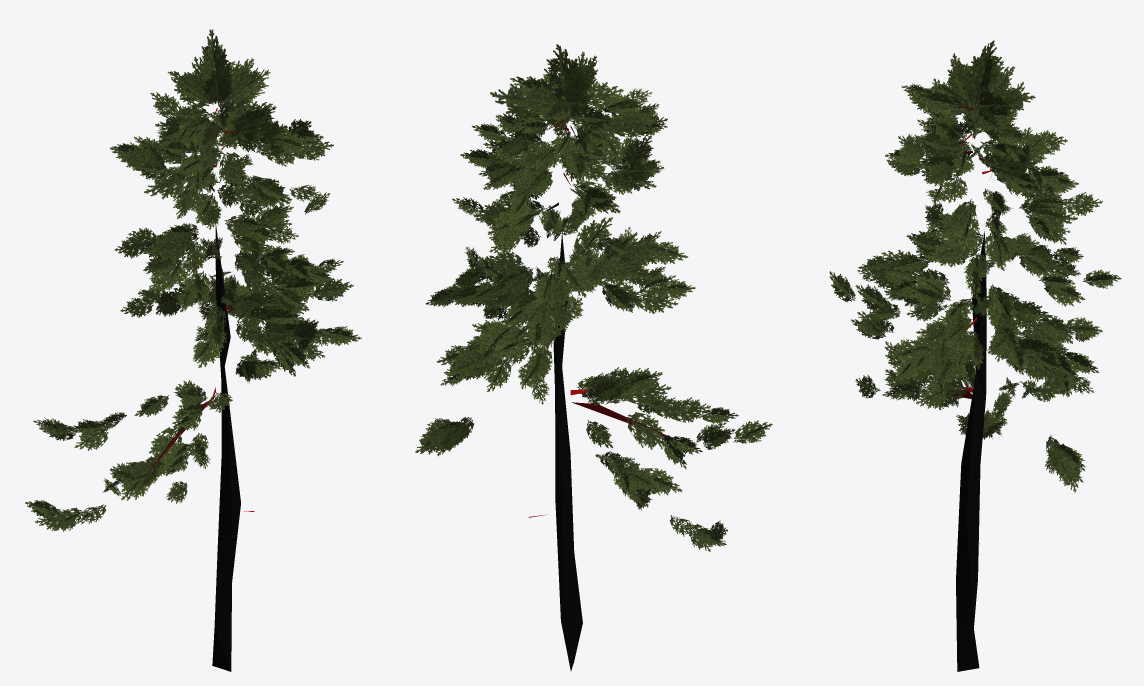
The model's file is pine2 lod3.FBX.
3 views of the same model, side by side, from view 1: azimuth 30°, elevation 25°; view 2: azimuth 150°, elevation 25°; view 3: azimuth 270°, elevation 25° (orthographic).
Parts seen in each view (by area): view 1: pine2_LOD3; view 2: pine2_LOD3; view 3: pine2_LOD3.
Boxes of the visible parts, bbox=[...] form: pine2_LOD3: bbox=[25, 29, 361, 671]; pine2_LOD3: bbox=[415, 44, 772, 670]; pine2_LOD3: bbox=[829, 40, 1121, 671].
Size of the model in its own units: 140993 by 272968 by 121181.
